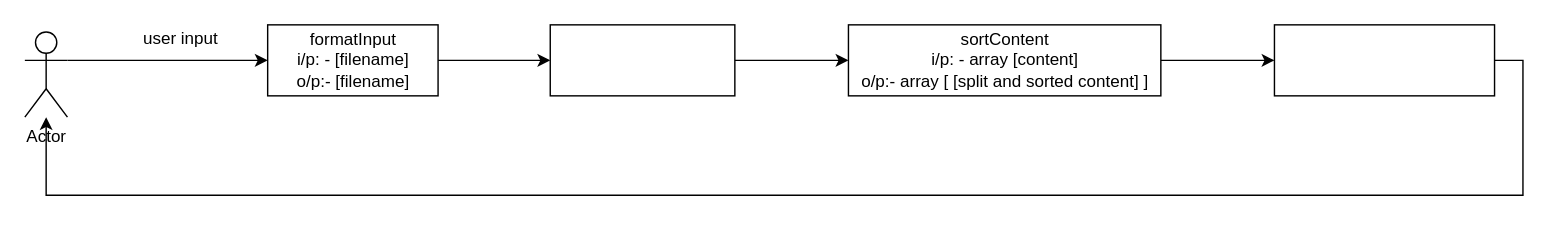
Image size: 1559x231. Some labels were removed from this diagram. Each missing label, with the centre of its shape:
"loadData i/p: - array [filename] o/p:- array [ [content] ]" belongs at point (642, 59).
"outputHandler i/p: - array [sorted content] o/p:- string" belongs at point (1384, 59).
